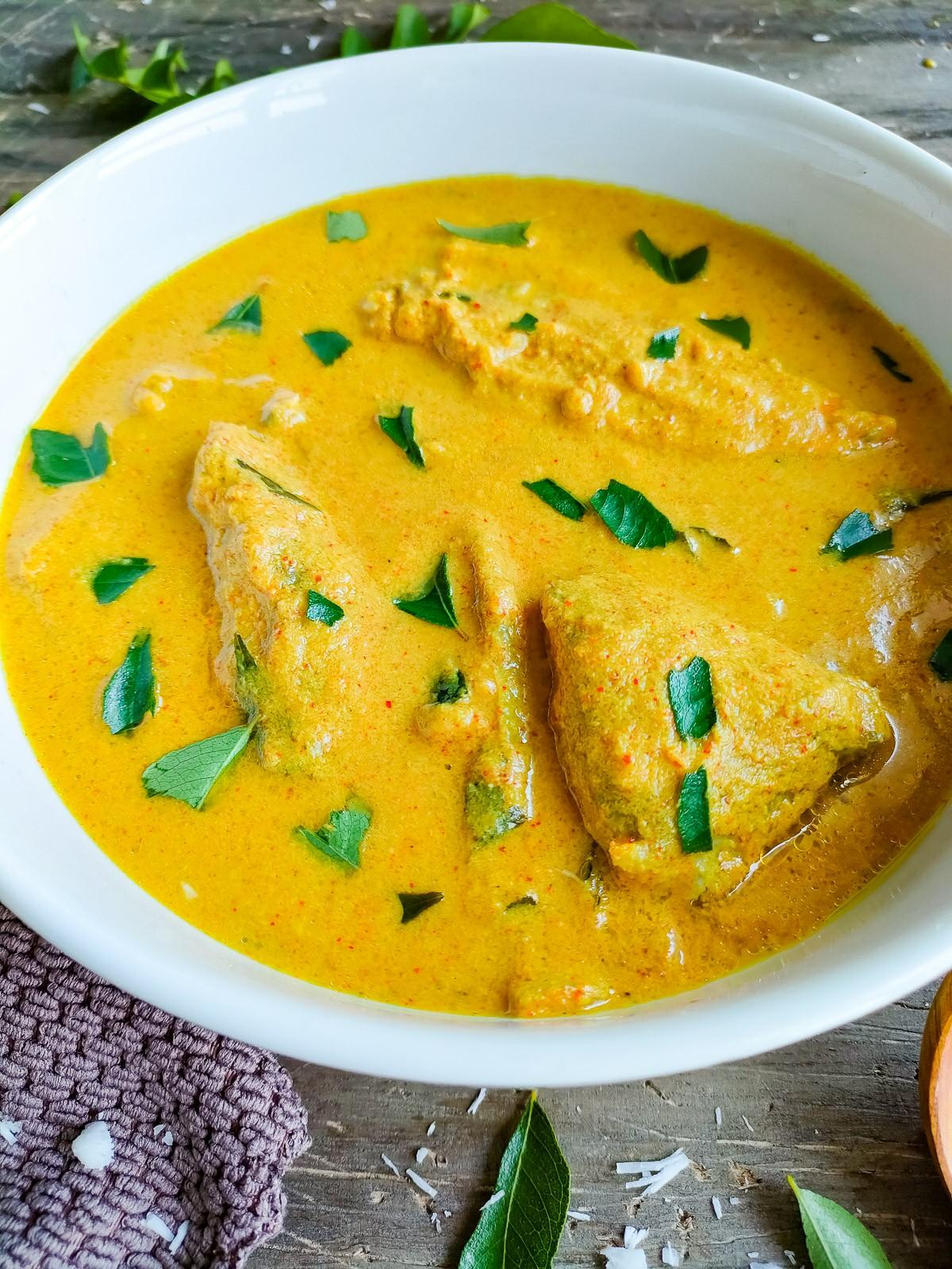FishCurry: (0, 178, 952, 1012)
